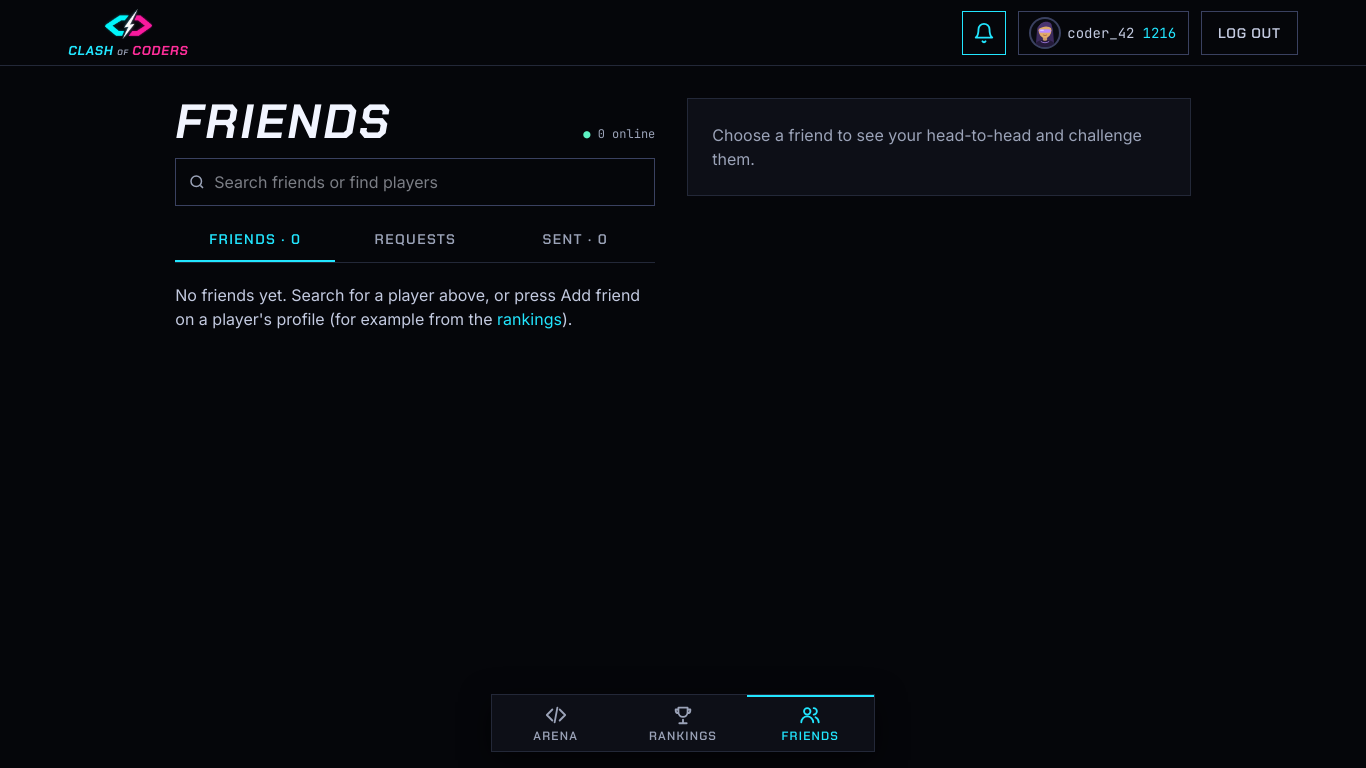
finding new players › suggests players after 3 letters, once typing pauses
The width and height of the screenshot is (1366, 768).
Type "sh" into the search field labelled "Search friends or find players".
click(428, 182); type("sh")  # box [214,159,642,205]
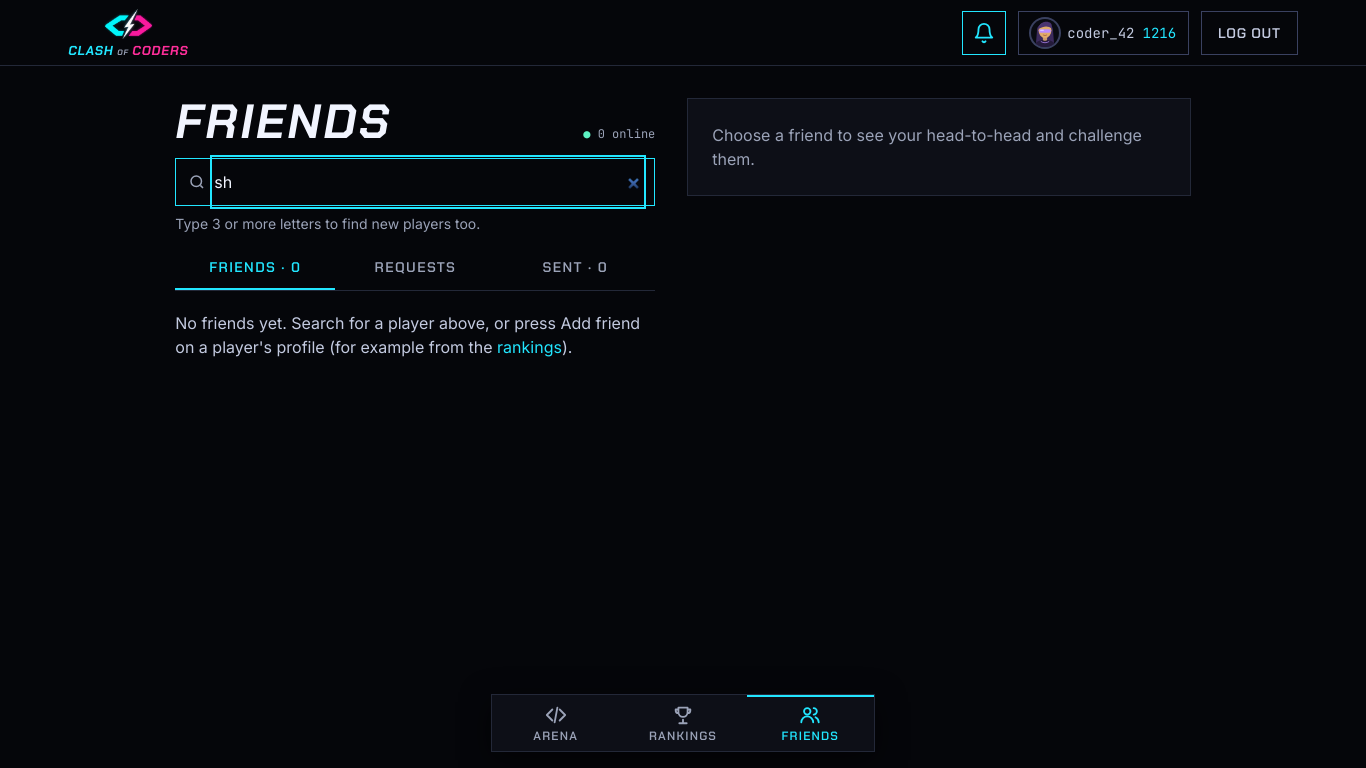
Check: the text "Type 3 or more letters to find new players too." is shown, box [175,215,480,232]
Type "a" into the search field named "Search friends or find players".
click(428, 182); type("a")  # box [214,159,642,205]
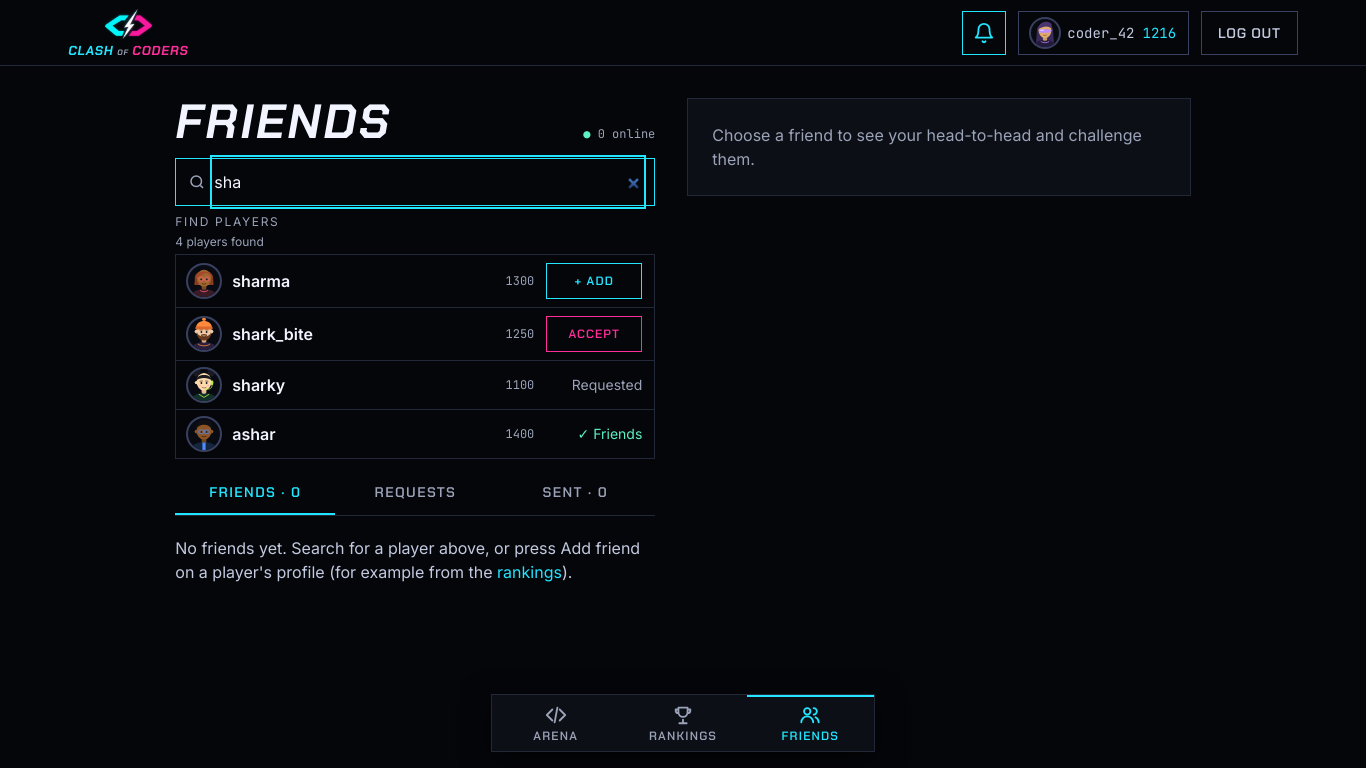
Check: the text "4 players found" is shown, box [175,234,264,249]
Check: the button with aria-label "Accept shark_bite's request" is enabled, box [546,316,642,352]
Check: the list item "sharky 1100 Requested" is shown, box [176,360,654,409]
